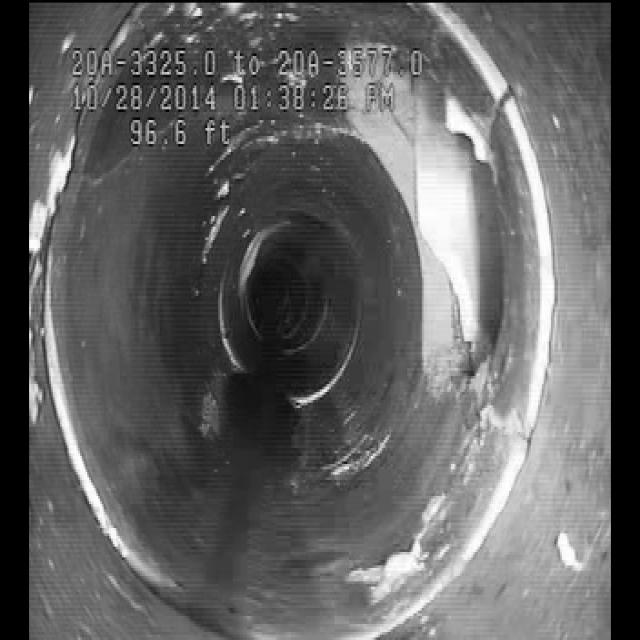Fracture: (402, 98, 520, 368)
